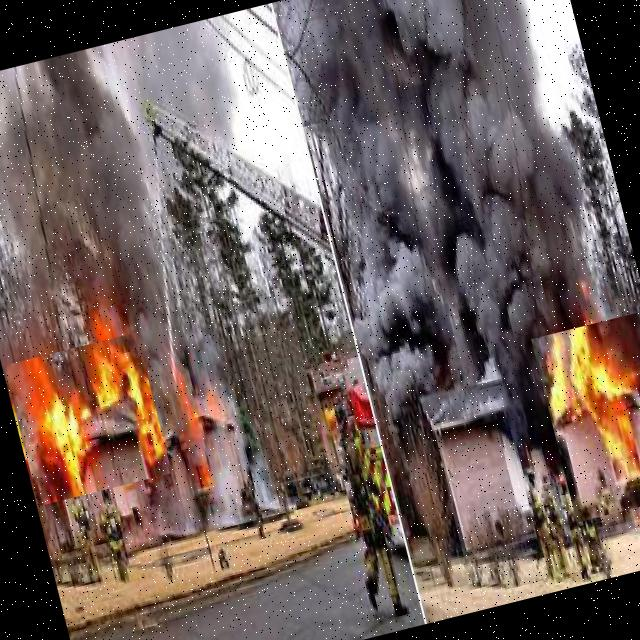fire: (3, 332, 172, 506), (531, 312, 640, 522)
